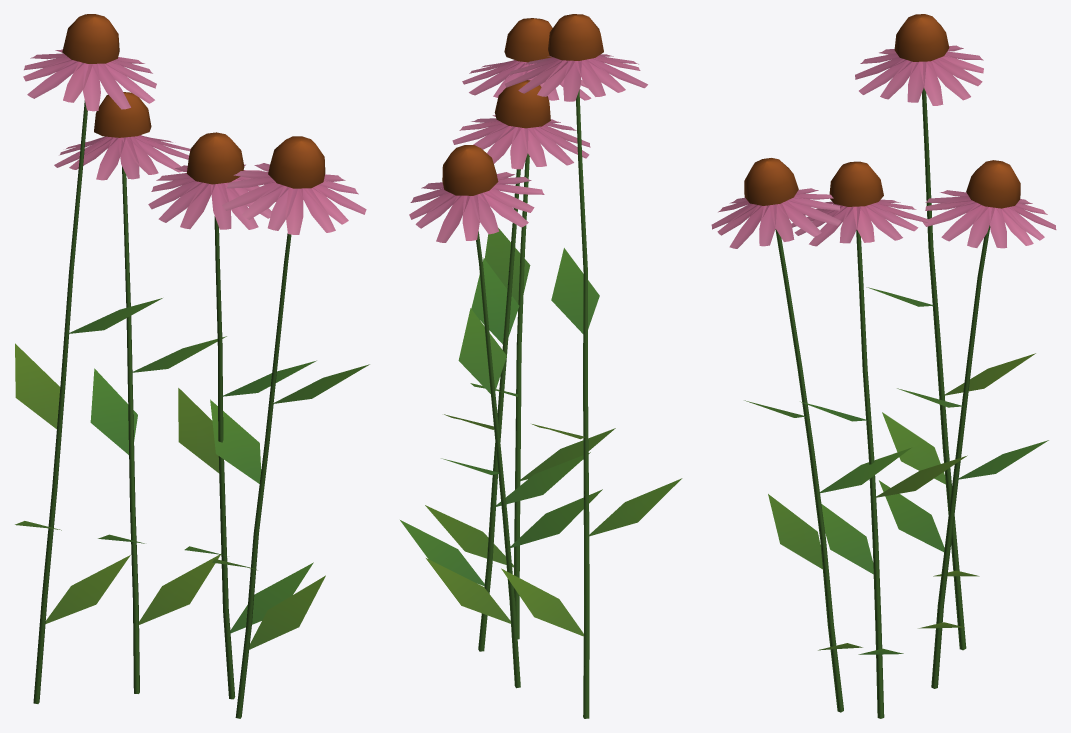
Rendered from flower-coneflower-b.lod0.glb.
3 renders of one model, left to right at view 1: azimuth 30°, elevation 25°; view 2: azimuth 150°, elevation 25°; view 3: azimuth 270°, elevation 25°, orthographic. The views are drawn at different scales.
Visible parts, largest first — view 1: flower-coneflower-b.lod0; view 2: flower-coneflower-b.lod0; view 3: flower-coneflower-b.lod0.
Boxes of the visible parts, bbox=[...] form: flower-coneflower-b.lod0: bbox=[15, 14, 369, 718]; flower-coneflower-b.lod0: bbox=[400, 14, 682, 718]; flower-coneflower-b.lod0: bbox=[711, 14, 1056, 718].
Size of the model in its own units: 0.2623 by 0.6005 by 0.2902.
